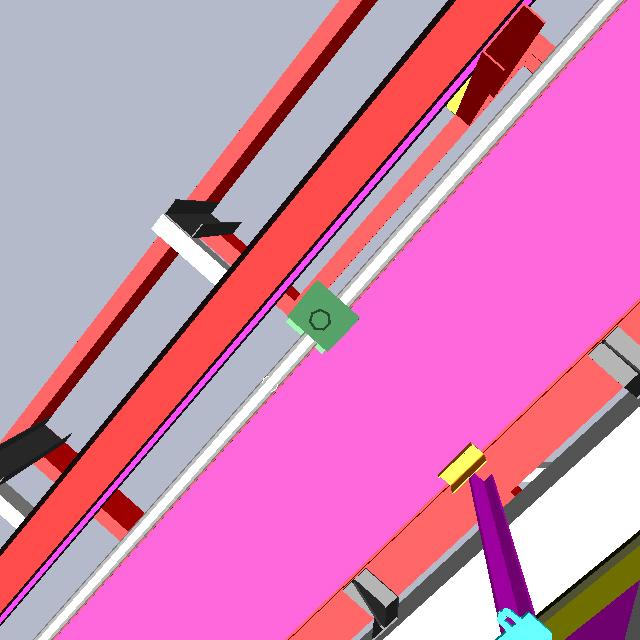Poste: (306, 306, 330, 336)
Soporte: (451, 1, 558, 135)
